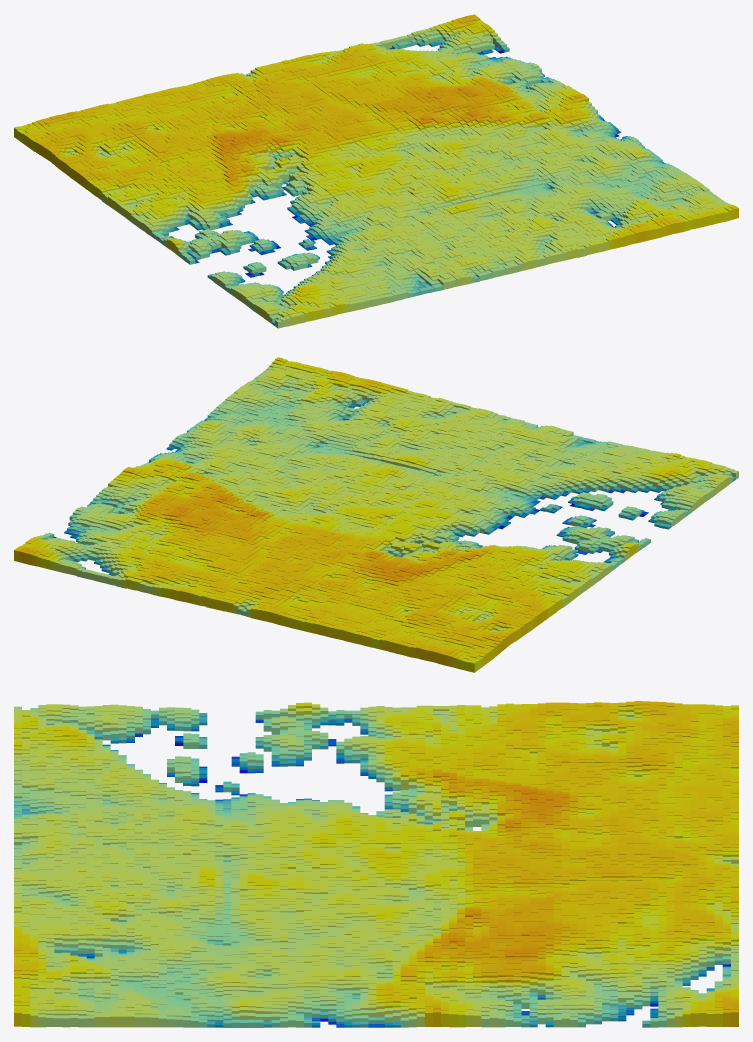
The model's file is population.glb.
3 views of the same model, one above another, from view 1: azimuth 30°, elevation 25°; view 2: azimuth 150°, elevation 25°; view 3: azimuth 270°, elevation 25° (orthographic). The views are drawn at different scales.
Visible parts, largest first — view 1: population; view 2: population; view 3: population.
Boxes of the visible parts, x1,y1,x2,y2 form: population: (14,14,738,328); population: (14,357,738,672); population: (14,701,738,1027).
Bounding box in the file's own units: 9023 × 263 × 8961.
